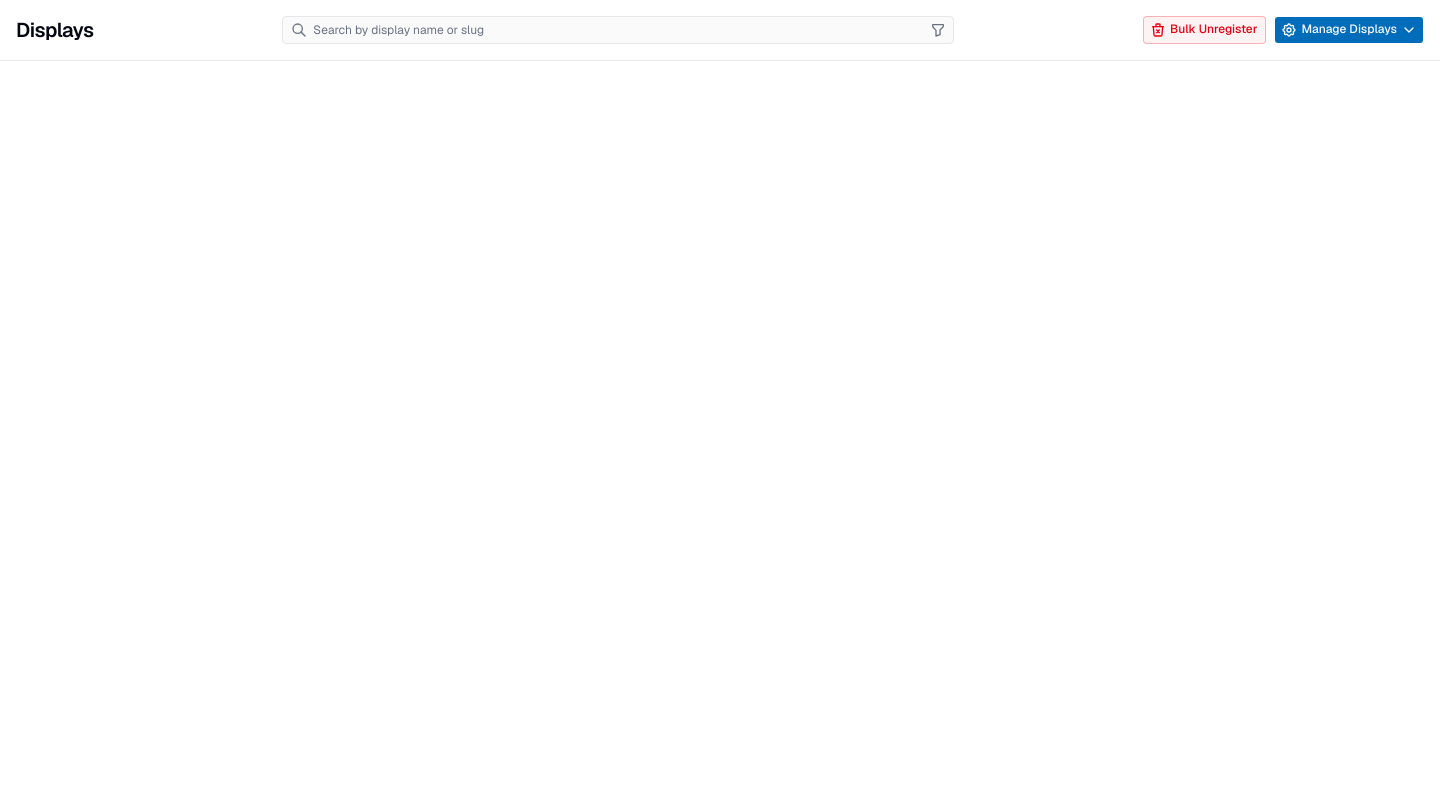
it: DisplaysToolbar › opens filters from the merged search control
Click the button named "Filter displays". click: x=938, y=30
box: [926,18,950,42]
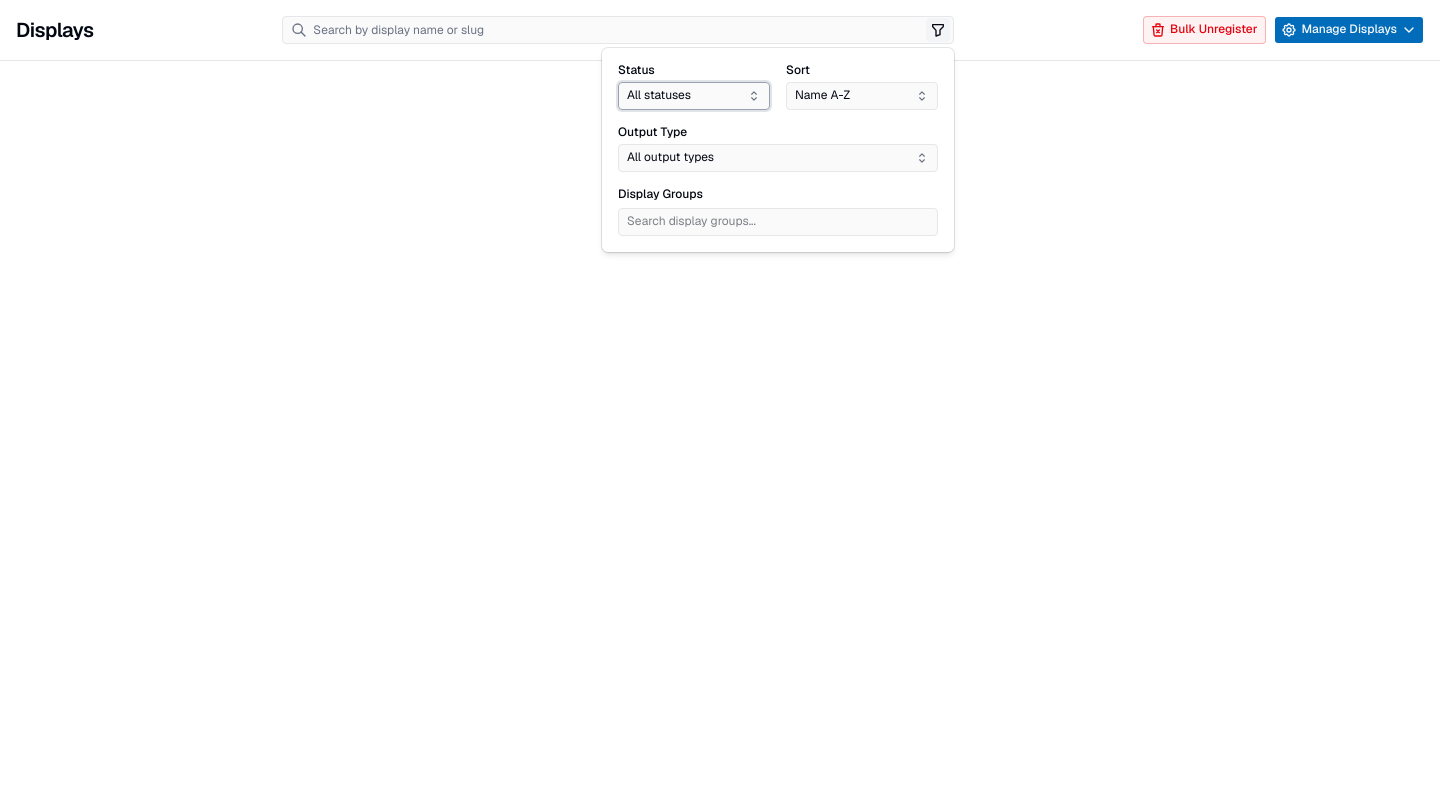
Now the dialog named "Display filters" is shown, box [602,48,954,252]
